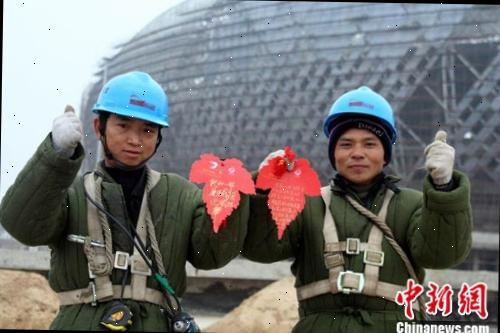helmet: (91, 70, 178, 128), (322, 84, 399, 138)
no_wear: (46, 175, 191, 309), (292, 186, 420, 333)
